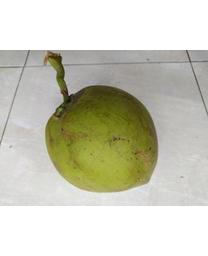coconut: (40, 81, 156, 190)
